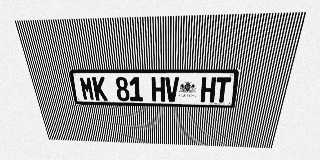1: (128, 77, 143, 101)
8: (115, 77, 130, 101)
H: (200, 77, 216, 102), (151, 77, 165, 102)
K: (92, 77, 108, 101)
M: (79, 77, 95, 100)
T: (214, 77, 231, 103)
V: (165, 77, 179, 102)
